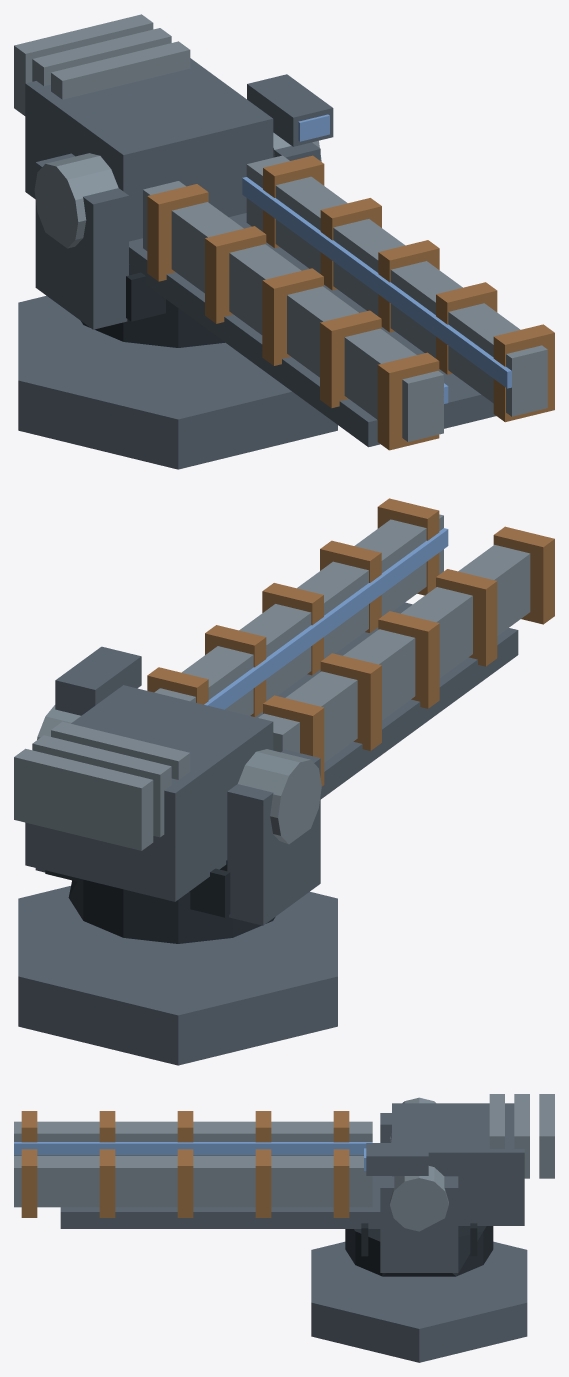
File: railgun_t2_d0.meshopt.glb
3 renders of one model, top to bottom at view 1: azimuth 30°, elevation 25°; view 2: azimuth 150°, elevation 25°; view 3: azimuth 270°, elevation 25°, orthographic. The views are drawn at different scales.
Visible parts, largest first — view 1: ROOT_ARMOR_GEOMETRY; view 2: ROOT_ARMOR_GEOMETRY; view 3: ROOT_ARMOR_GEOMETRY.
Part boxes in pixels (left/top/right/bottom): ROOT_ARMOR_GEOMETRY: left=14, top=14, right=554, bottom=469; ROOT_ARMOR_GEOMETRY: left=14, top=498, right=554, bottom=1065; ROOT_ARMOR_GEOMETRY: left=14, top=1094, right=554, bottom=1362.
Size of the model in its own units: 1.6 by 1.38 by 3.47.
